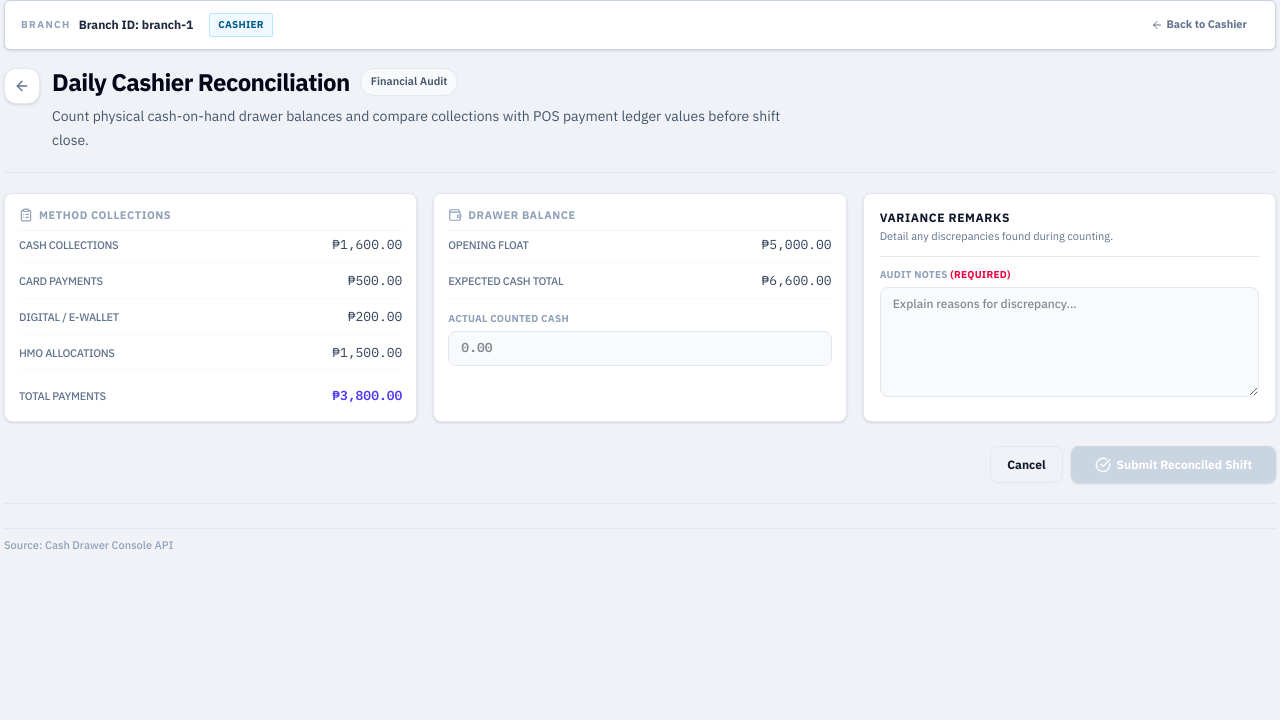
Test: DailyReconciliationPage › shows balanced ledger when actual matches expected
The width and height of the screenshot is (1280, 720).
Type "6600" into the number field with placeholder "0.00" at (640, 348), box left=448, top=331, right=832, bottom=366
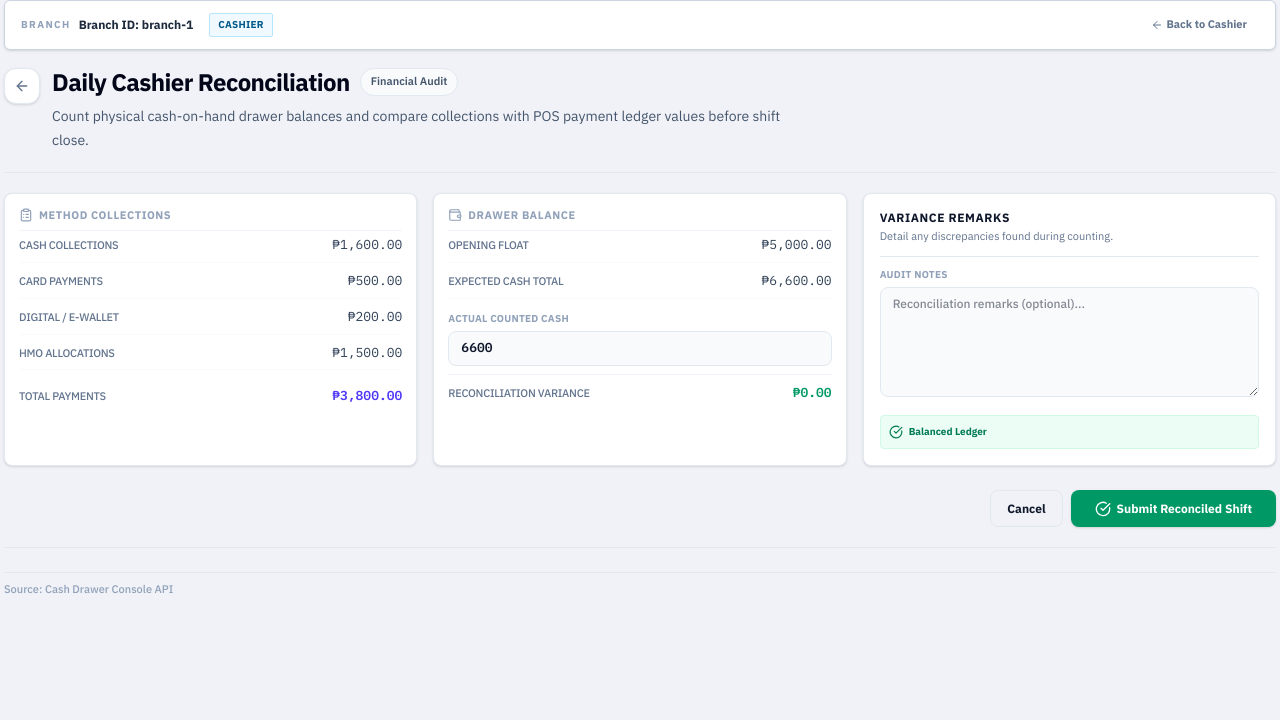
expect the text "Balanced Ledger" is shown: met, box left=880, top=415, right=1259, bottom=449
